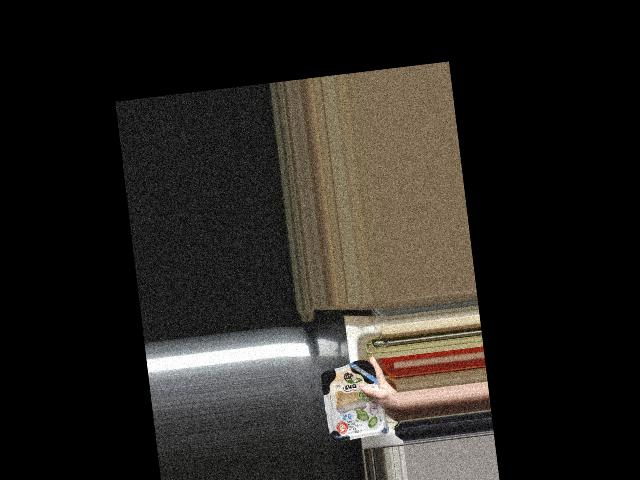cheese: (320, 357, 388, 439)
